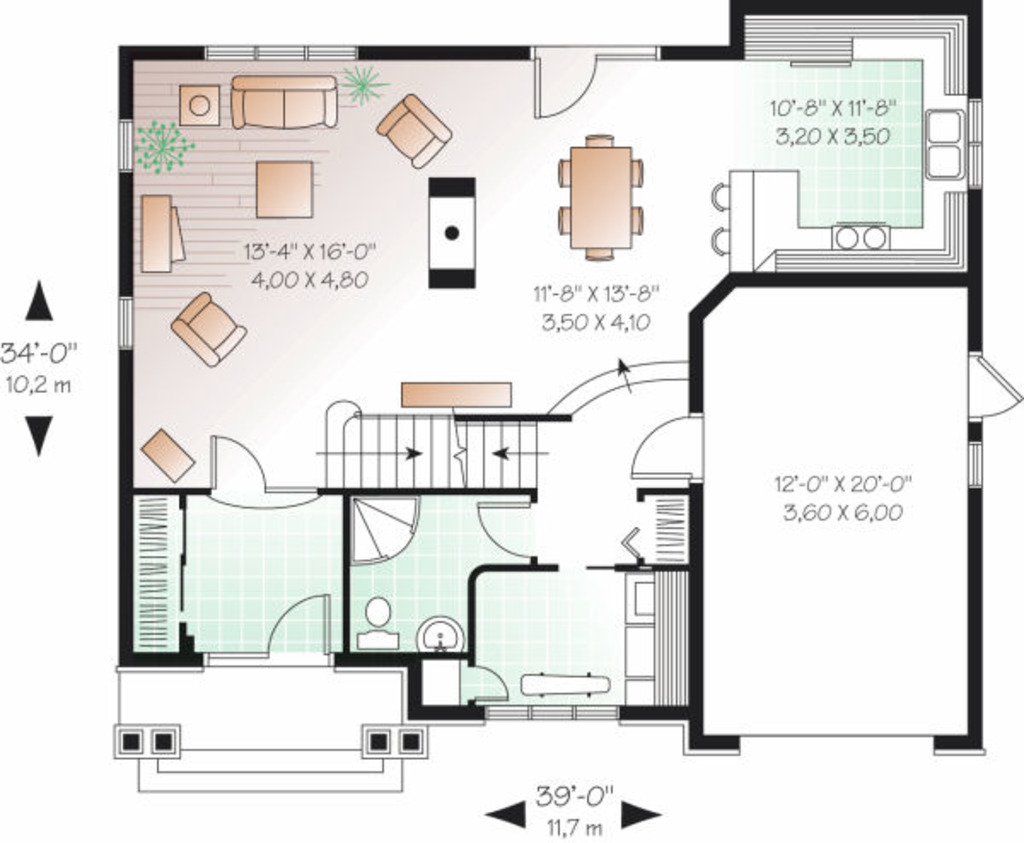Kitchen_bar: (715, 168, 916, 273)
dining_table: (543, 126, 647, 270)
door: (612, 414, 703, 483), (252, 592, 331, 664), (528, 50, 598, 125), (471, 502, 537, 562), (962, 355, 1024, 417), (203, 435, 263, 492), (463, 661, 508, 709)
large_sink: (354, 587, 401, 653)
large_sofa: (217, 68, 354, 137)
small_sink: (416, 607, 478, 648)
small_sofa: (374, 87, 460, 175), (165, 288, 252, 370)
stairs: (315, 402, 569, 497)
twin_sink: (920, 102, 963, 194)
window: (487, 706, 617, 720), (111, 120, 138, 173), (204, 46, 357, 55), (115, 296, 133, 352)
